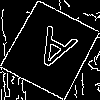A: (25, 24, 79, 81)
